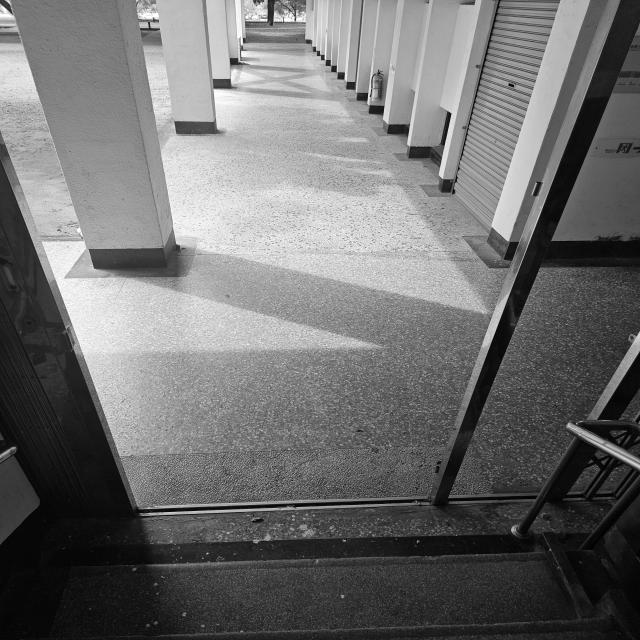Road-Object: (45, 44, 508, 506), (453, 265, 640, 494)
floor: (1, 501, 638, 640)
